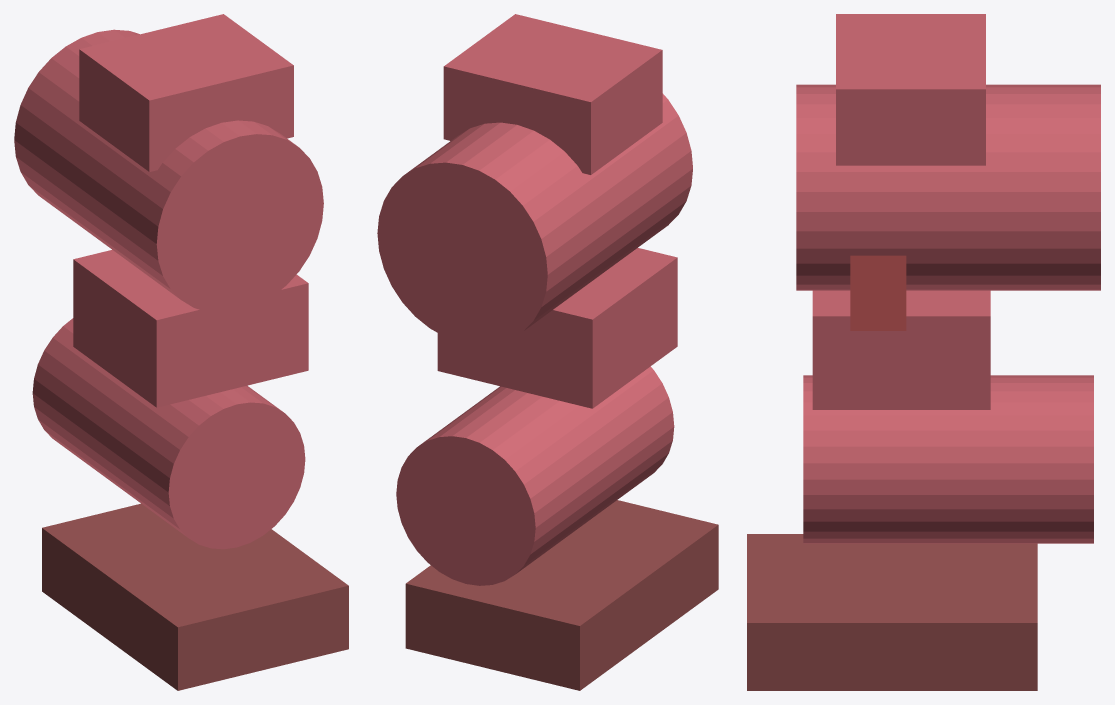
File: leg_left_002_valkyrion.glb
3 views of the same model, side by side, from view 1: azimuth 30°, elevation 25°; view 2: azimuth 150°, elevation 25°; view 3: azimuth 270°, elevation 25° (orthographic). The views are drawn at different scales.
Parts seen in each view (by area): view 1: geometry_0, geometry_4, geometry_3, geometry_2, geometry_1; view 2: geometry_0, geometry_3, geometry_4, geometry_1, geometry_2; view 3: geometry_0, geometry_4, geometry_3, geometry_1, geometry_2, geometry_5.
Boxes of the visible parts, left/top/right/bottom form: geometry_0: left=14, top=29, right=323, bottom=313; geometry_4: left=42, top=503, right=348, bottom=690; geometry_3: left=32, top=318, right=305, bottom=549; geometry_2: left=73, top=250, right=308, bottom=407; geometry_1: left=79, top=14, right=293, bottom=171; geometry_0: left=377, top=93, right=692, bottom=345; geometry_3: left=396, top=366, right=674, bottom=585; geometry_4: left=405, top=500, right=718, bottom=690; geometry_1: left=443, top=14, right=662, bottom=174; geometry_2: left=437, top=248, right=677, bottom=408; geometry_0: left=796, top=84, right=1100, bottom=290; geometry_4: left=747, top=534, right=1037, bottom=690; geometry_3: left=803, top=375, right=1093, bottom=543; geometry_1: left=836, top=14, right=985, bottom=165; geometry_2: left=812, top=290, right=990, bottom=409; geometry_5: left=850, top=255, right=906, bottom=330.
Bounding box in the file's own units: 0.45 × 1.4 × 0.755.
